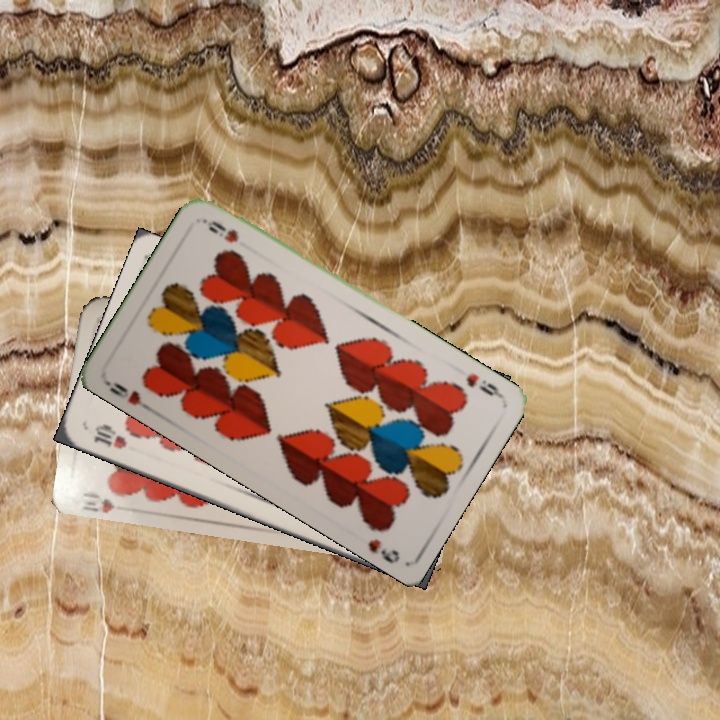H10: (89, 421, 130, 452), (77, 488, 118, 514)
H9: (102, 377, 155, 415), (462, 369, 504, 400)
